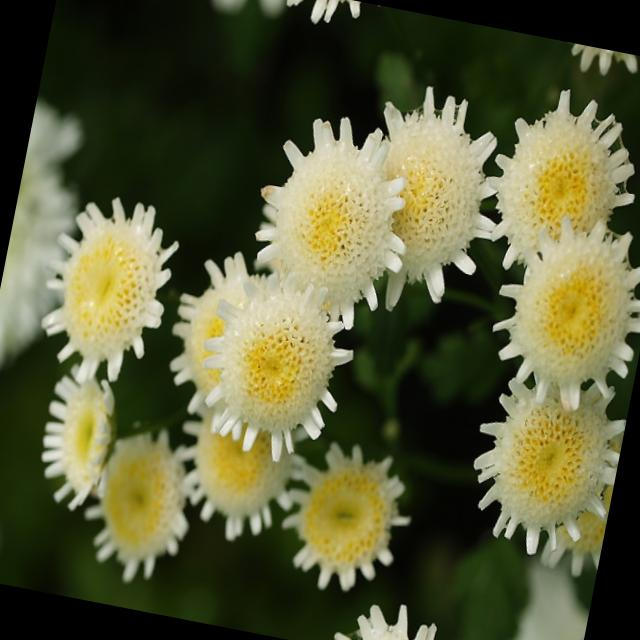Poisonous-Parthenium: (4, 208, 475, 627), (249, 23, 640, 326), (437, 290, 640, 610)
